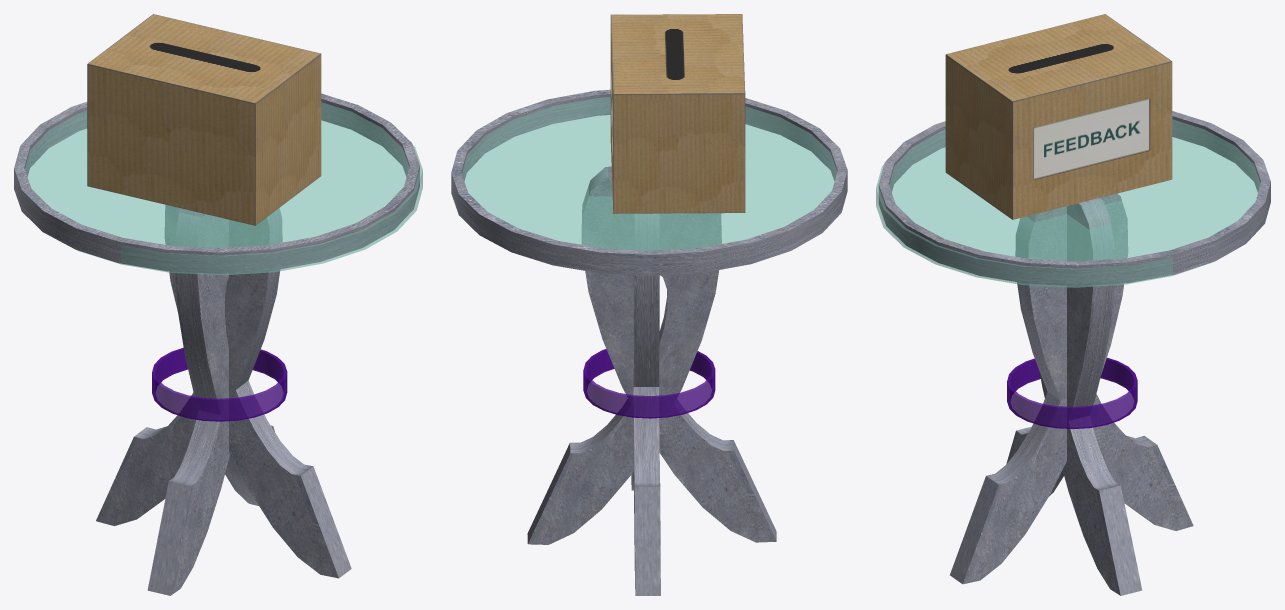
Rendered from Suggestion Box with Course Feedback Survey_109-102-023__75a6f204-8ae0-4202-9606-c57692b72daf.dae.
3 renders of one model, left to right at view 1: azimuth 30°, elevation 25°; view 2: azimuth 150°, elevation 25°; view 3: azimuth 270°, elevation 25°, orthographic. The views are drawn at different scales.
Parts seen in each view (by area): view 1: Primitive (×6), Suggestion Box with Course Feedback Survey, HighTopGlassTable; view 2: Primitive (×6), HighTopGlassTable, Suggestion Box with Course Feedback Survey; view 3: Primitive (×6), Suggestion Box with Course Feedback Survey, HighTopGlassTable.
Part boxes in pixels (x1,y1,x2,y2): Primitive (×6): (14,93,419,595); Suggestion Box with Course Feedback Survey: (87,14,321,225); HighTopGlassTable: (25,102,422,275); Primitive (×6): (451,89,847,595); HighTopGlassTable: (462,97,836,250); Suggestion Box with Course Feedback Survey: (610,14,745,213); Primitive (×6): (878,111,1270,595); Suggestion Box with Course Feedback Survey: (945,14,1172,219); HighTopGlassTable: (876,119,1260,287).
Size of the model in its own units: 1.51 by 1.51 by 2.03.
